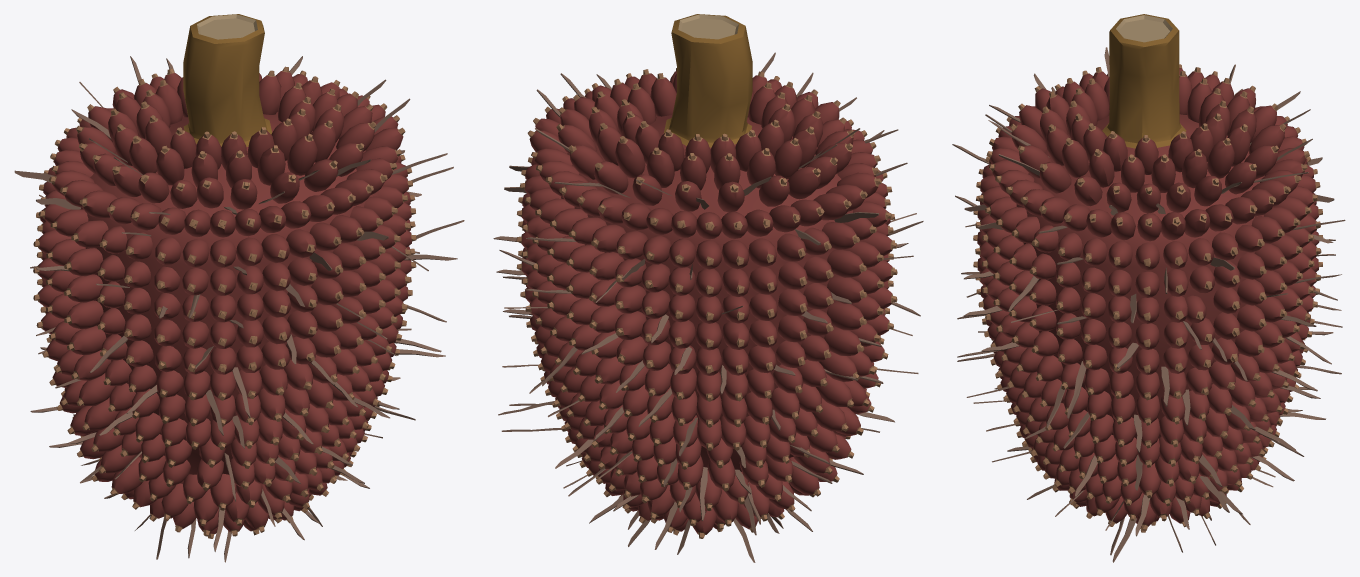
File: Buah_Sawit_Compress.glb
3 views of the same model, side by side, from view 1: azimuth 30°, elevation 25°; view 2: azimuth 150°, elevation 25°; view 3: azimuth 270°, elevation 25° (orthographic). The views are drawn at different scales.
Parts seen in each view (by area): view 1: Cube; view 2: Cube; view 3: Cube.
Part boxes in pixels (<box>): Cube: <box>14,14,464,562</box>; Cube: <box>493,14,923,562</box>; Cube: <box>952,14,1345,562</box>.
Size of the model in its own units: 0.5001 by 0.6157 by 0.4423.
